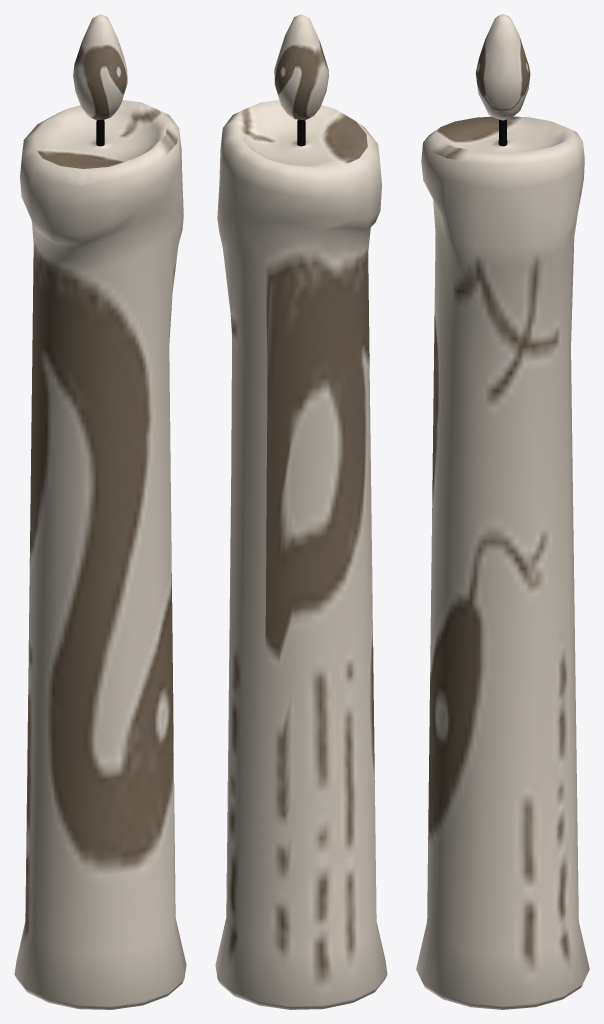
Rendered from candle.fbx.
3 renders of one model, left to right at view 1: azimuth 30°, elevation 25°; view 2: azimuth 150°, elevation 25°; view 3: azimuth 270°, elevation 25°, orthographic.
Visible parts, largest first — view 1: candle; view 2: candle; view 3: candle.
Boxes of the visible parts, x1,y1,x2,y2 form: candle: (14, 14, 186, 1009); candle: (215, 14, 387, 1009); candle: (416, 14, 589, 1009).
Size of the model in its own units: 0.1781 by 1.09 by 0.1781.
